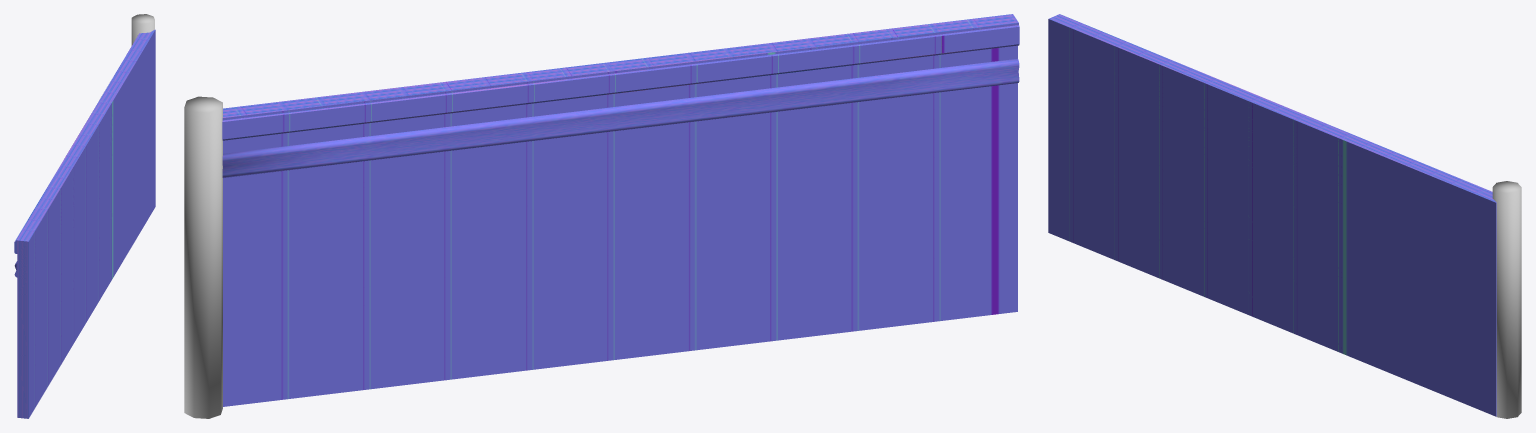
File: banchina custom.fbx
The picture shows the model from 3 angles, left to right: view 1: azimuth 30°, elevation 25°; view 2: azimuth 150°, elevation 25°; view 3: azimuth 270°, elevation 25°; orthographic projection. The views are drawn at different scales.
Parts seen in each view (by area): view 1: Cube.010, Cube.014; view 2: Cube.010, Cube.014; view 3: Cube.010, Cube.014.
Part boxes in pixels (x1,y1,x2,y2): Cube.010: [14, 29, 155, 418]; Cube.014: [131, 14, 154, 45]; Cube.010: [222, 14, 1019, 406]; Cube.014: [184, 96, 222, 418]; Cube.010: [1048, 14, 1496, 416]; Cube.014: [1492, 181, 1521, 418].
Size of the model in its own units: 3069 by 1693 by 3214.
